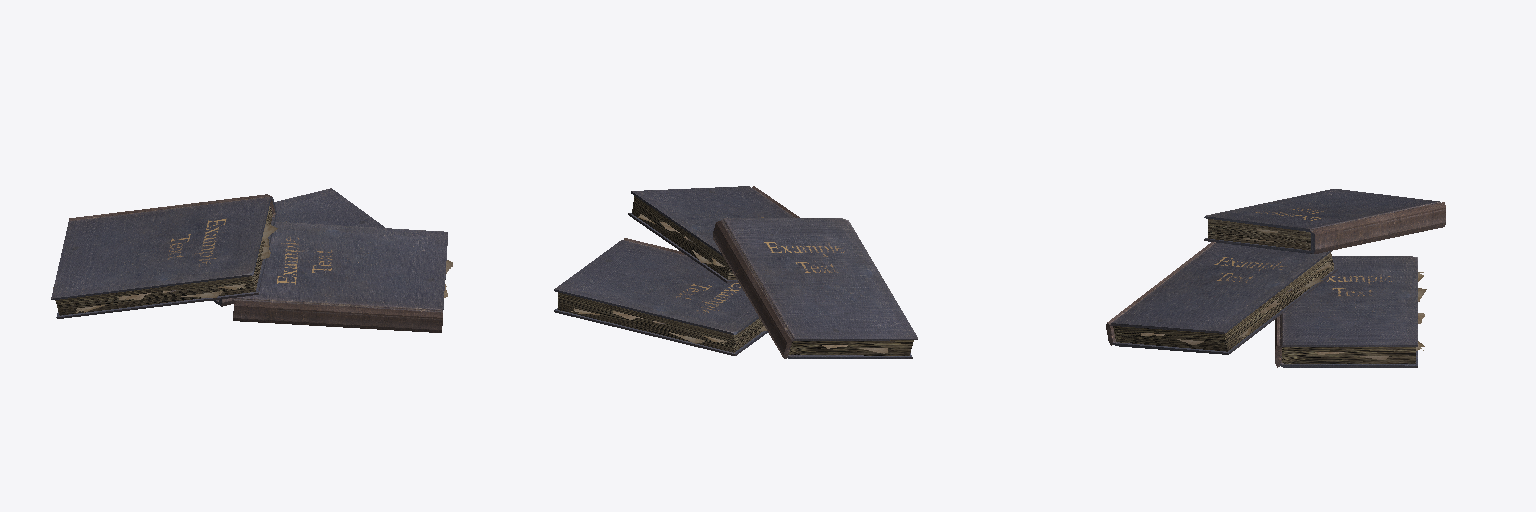
The picture shows the model from 3 angles: view 1: azimuth 30°, elevation 25°; view 2: azimuth 150°, elevation 25°; view 3: azimuth 270°, elevation 25°; orthographic projection.
Parts seen in each view (by area): view 1: Cube.003, Cube.002, Cube.001; view 2: Cube.003, Cube.001, Cube.002; view 3: Cube.002, Cube.001, Cube.003.
Part boxes in pixels (x1,y1,x2,y2): Cube.003: (51, 194, 277, 318); Cube.002: (233, 222, 452, 332); Cube.001: (212, 188, 384, 306); Cube.003: (713, 217, 917, 358); Cube.001: (554, 238, 767, 355); Cube.002: (628, 186, 799, 282); Cube.002: (1106, 242, 1337, 354); Cube.001: (1275, 256, 1426, 367); Cube.003: (1204, 189, 1445, 253).
Bounding box in the file's own units: 9.77 × 2.18 × 8.29.
Materials: 1 (1 with a texture image).